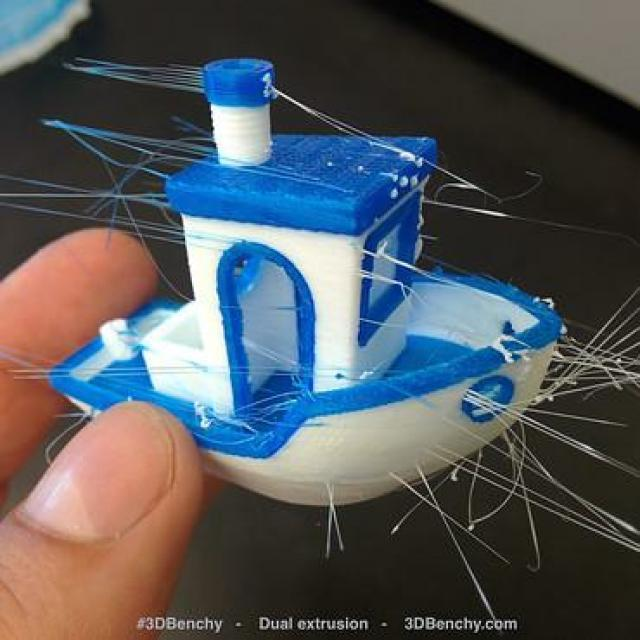Stringing: (84, 128, 208, 168), (558, 342, 636, 400), (90, 58, 214, 92), (432, 169, 508, 220), (463, 452, 548, 494), (92, 188, 172, 232), (560, 498, 628, 540), (493, 402, 535, 460), (404, 470, 446, 520), (312, 110, 368, 140), (574, 442, 625, 472), (322, 486, 342, 553), (530, 417, 572, 443), (276, 90, 314, 118)
